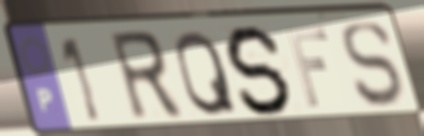1: (59, 34, 104, 124)
F: (283, 25, 331, 109)
Q: (173, 27, 240, 118)
R: (105, 28, 187, 125)
S: (223, 22, 295, 118), (339, 18, 406, 110)
